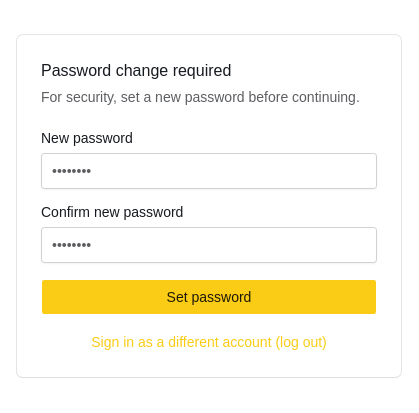
ForcePasswordChangePage › shows an error when the new password is too short
The image size is (419, 413).
In the password field with test id "force-new-password-input": (209, 171) x1=41 y1=153 x2=377 y2=189, type "short"
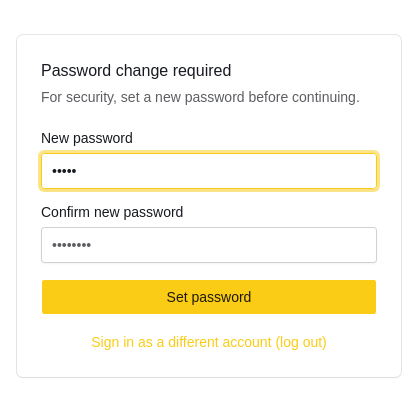
In the password field with test id "force-confirm-password-input": (209, 245) x1=41 y1=227 x2=377 y2=263, type "short"
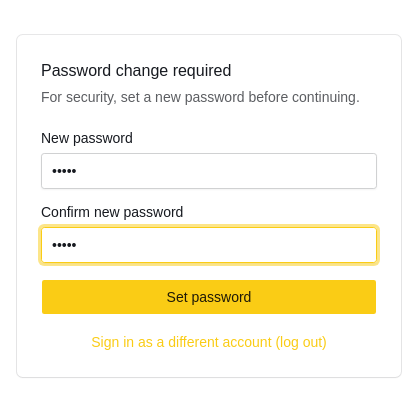
Click the button with test id "force-password-submit": (209, 297) x1=41 y1=279 x2=377 y2=315
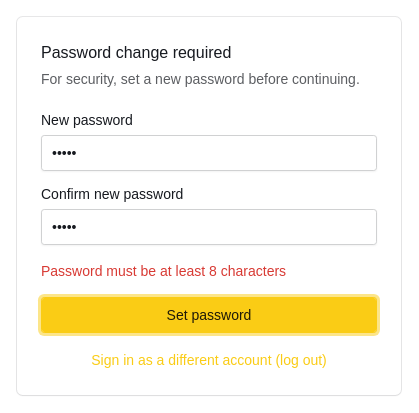
expect the text "Password must be at least 8 characters" is shown: met, box x1=41 y1=263 x2=286 y2=279
